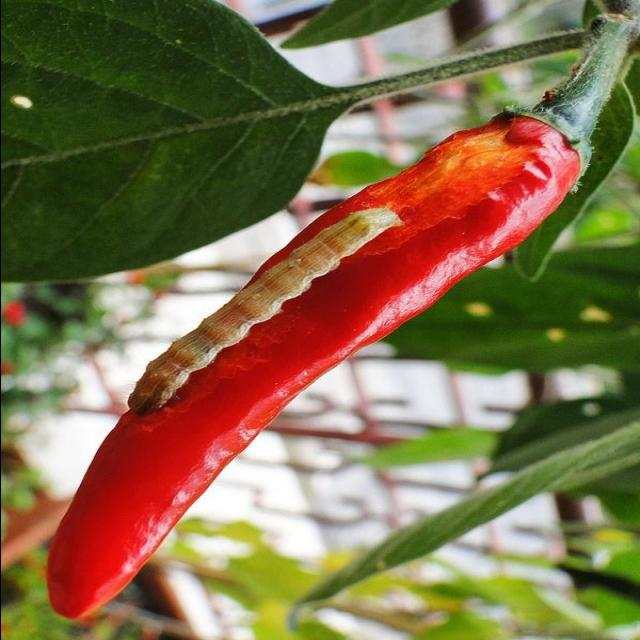grub: (128, 206, 402, 420)
